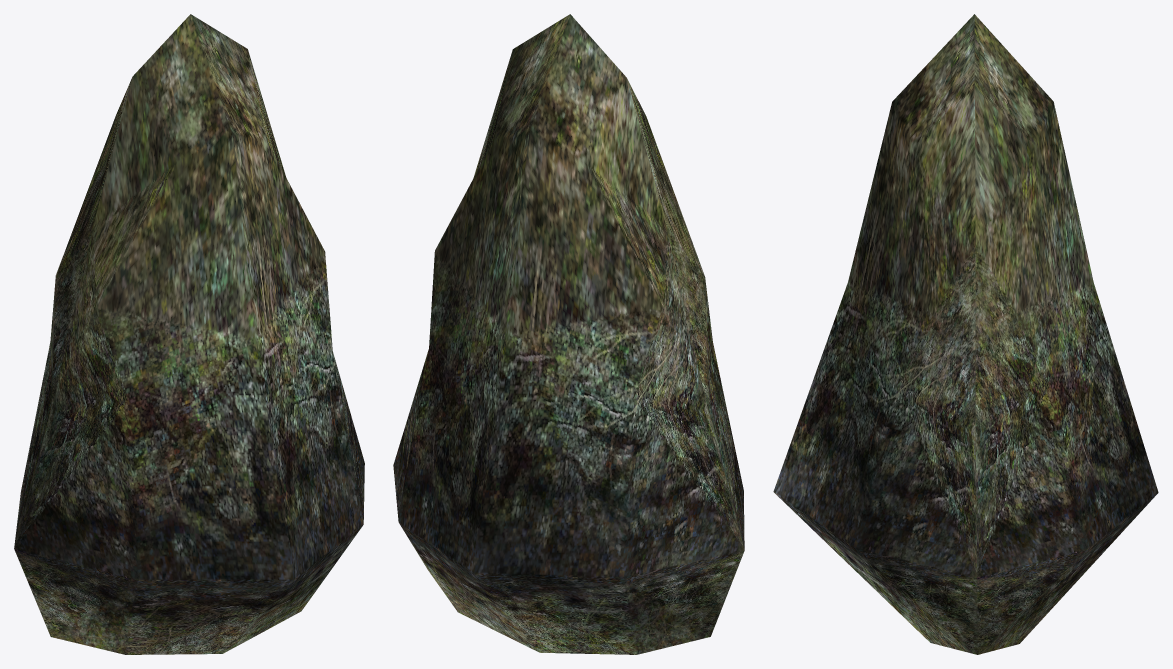
File: thm_all_cave_stalagmite_damprock_b1_l1.fbx
The picture shows the model from 3 angles, left to right: view 1: azimuth 30°, elevation 25°; view 2: azimuth 150°, elevation 25°; view 3: azimuth 270°, elevation 25°; orthographic projection. The views are drawn at different scales.
Parts seen in each view (by area): view 1: mesh_node; view 2: mesh_node; view 3: mesh_node.
Boxes of the visible parts, x1=… form: mesh_node: x1=14, y1=14, x2=364, y2=654; mesh_node: x1=393, y1=14, x2=744, y2=654; mesh_node: x1=773, y1=14, x2=1158, y2=654.
Size of the model in its own units: 2.28 by 3.9 by 2.23.
